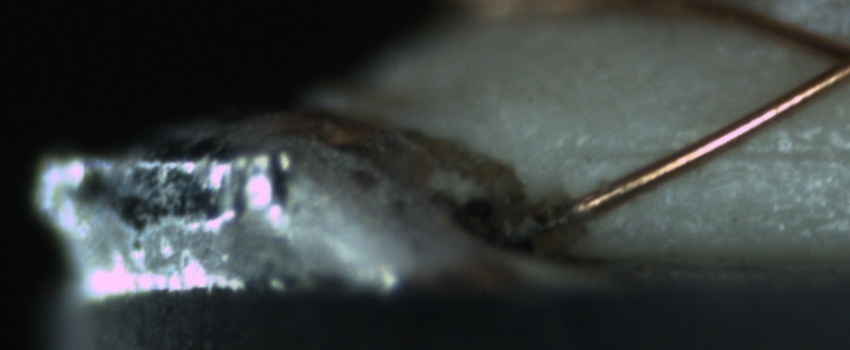CL: (805, 22, 850, 94)
DL: (599, 117, 849, 185)
